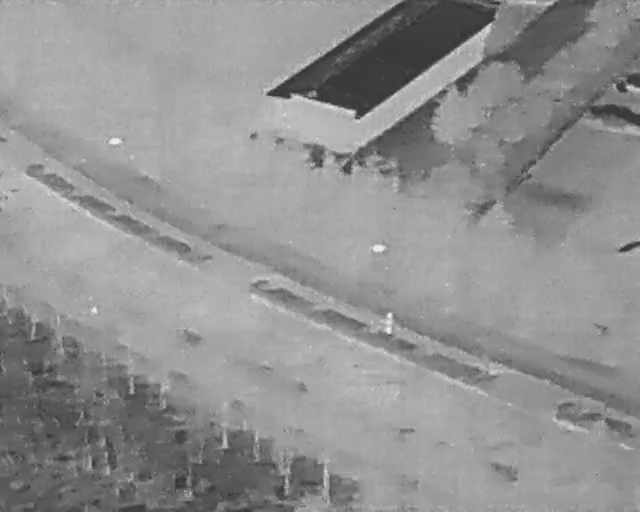Car: (580, 100, 639, 134), (611, 68, 639, 97)
Person: (82, 296, 101, 317), (381, 311, 396, 336)
